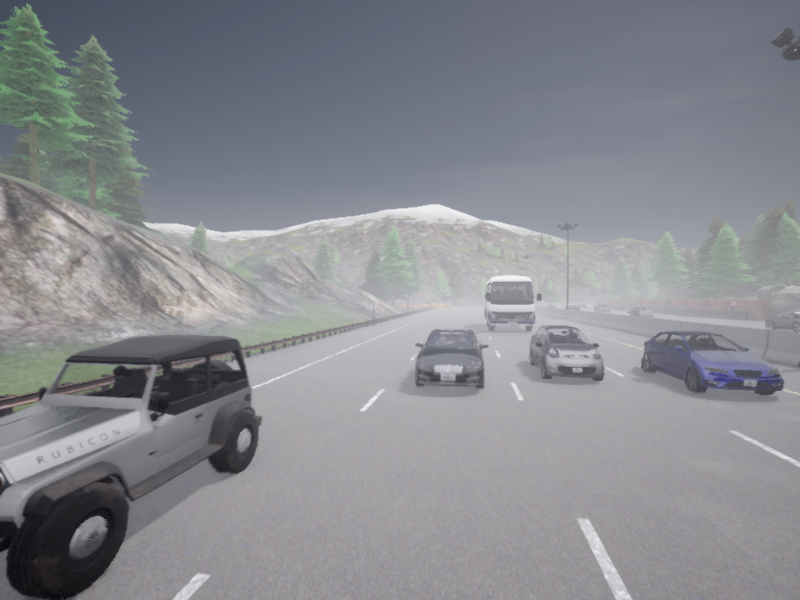vehicle: (0, 335, 262, 599), (642, 330, 783, 395), (415, 327, 488, 389), (529, 325, 603, 380), (484, 276, 541, 331), (766, 312, 799, 331), (628, 307, 653, 317), (628, 305, 654, 314), (594, 304, 608, 312), (564, 305, 578, 309), (545, 303, 555, 307), (578, 303, 586, 308)
